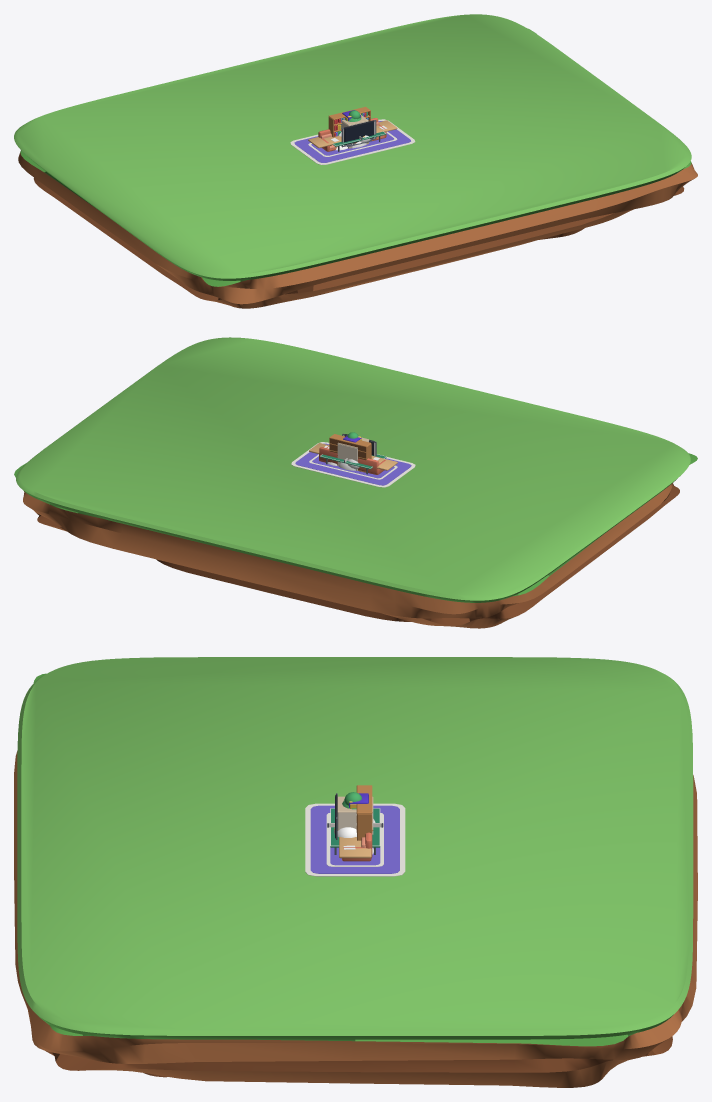
File: office.glb
3 views of the same model, one above another, from view 1: azimuth 30°, elevation 25°; view 2: azimuth 150°, elevation 25°; view 3: azimuth 270°, elevation 25° (orthographic). The views are drawn at different scales.
Visible parts, largest first — view 1: Island, Rug, Tv; view 2: Island, Rug, Bookshelf, Couch; view 3: Island, Rug, Bookshelf.
Boxes of the visible parts, bbox=[...] form: Island: bbox=[14, 14, 697, 308]; Rug: bbox=[290, 119, 415, 164]; Tv: bbox=[343, 120, 374, 145]; Island: bbox=[14, 337, 697, 628]; Rug: bbox=[291, 442, 415, 487]; Bookshelf: bbox=[329, 434, 371, 472]; Couch: bbox=[319, 446, 385, 474]; Island: bbox=[14, 657, 697, 1087]; Rug: bbox=[305, 803, 405, 876]; Bookshelf: bbox=[356, 785, 372, 840].
Size of the model in its own units: 25.34 by 7.88 by 19.15.
